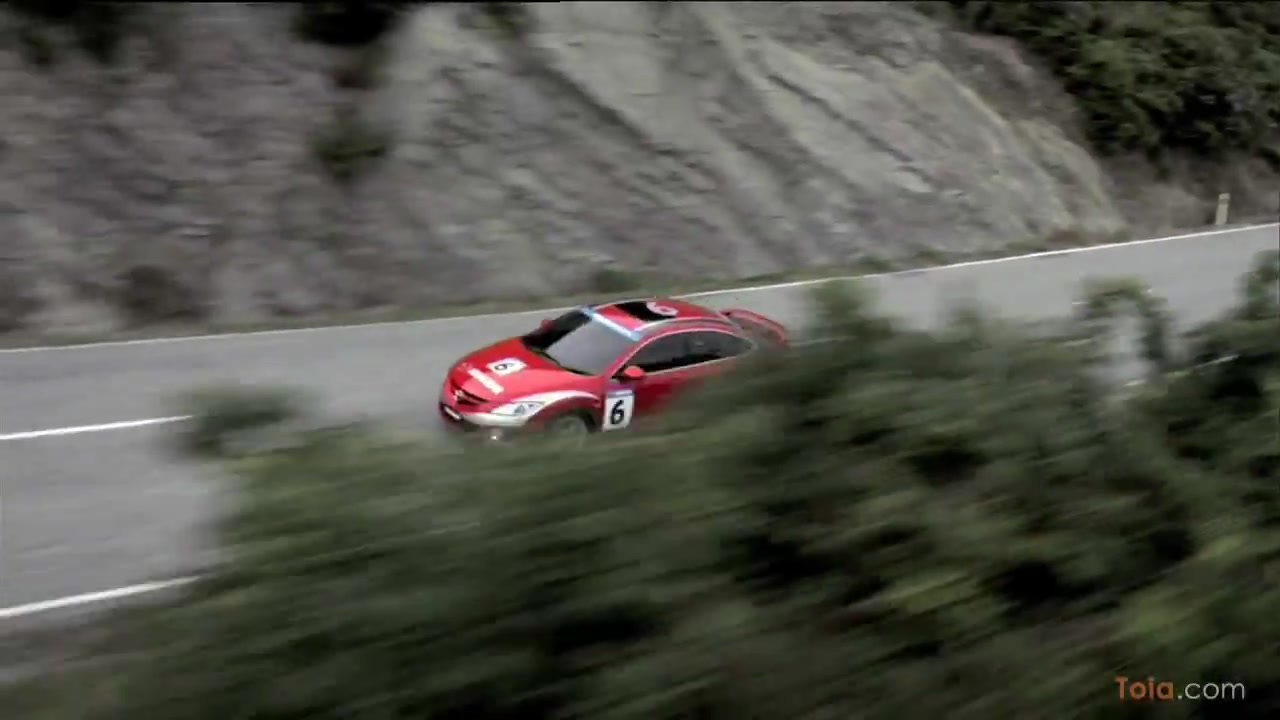car: (438, 293, 795, 454)
